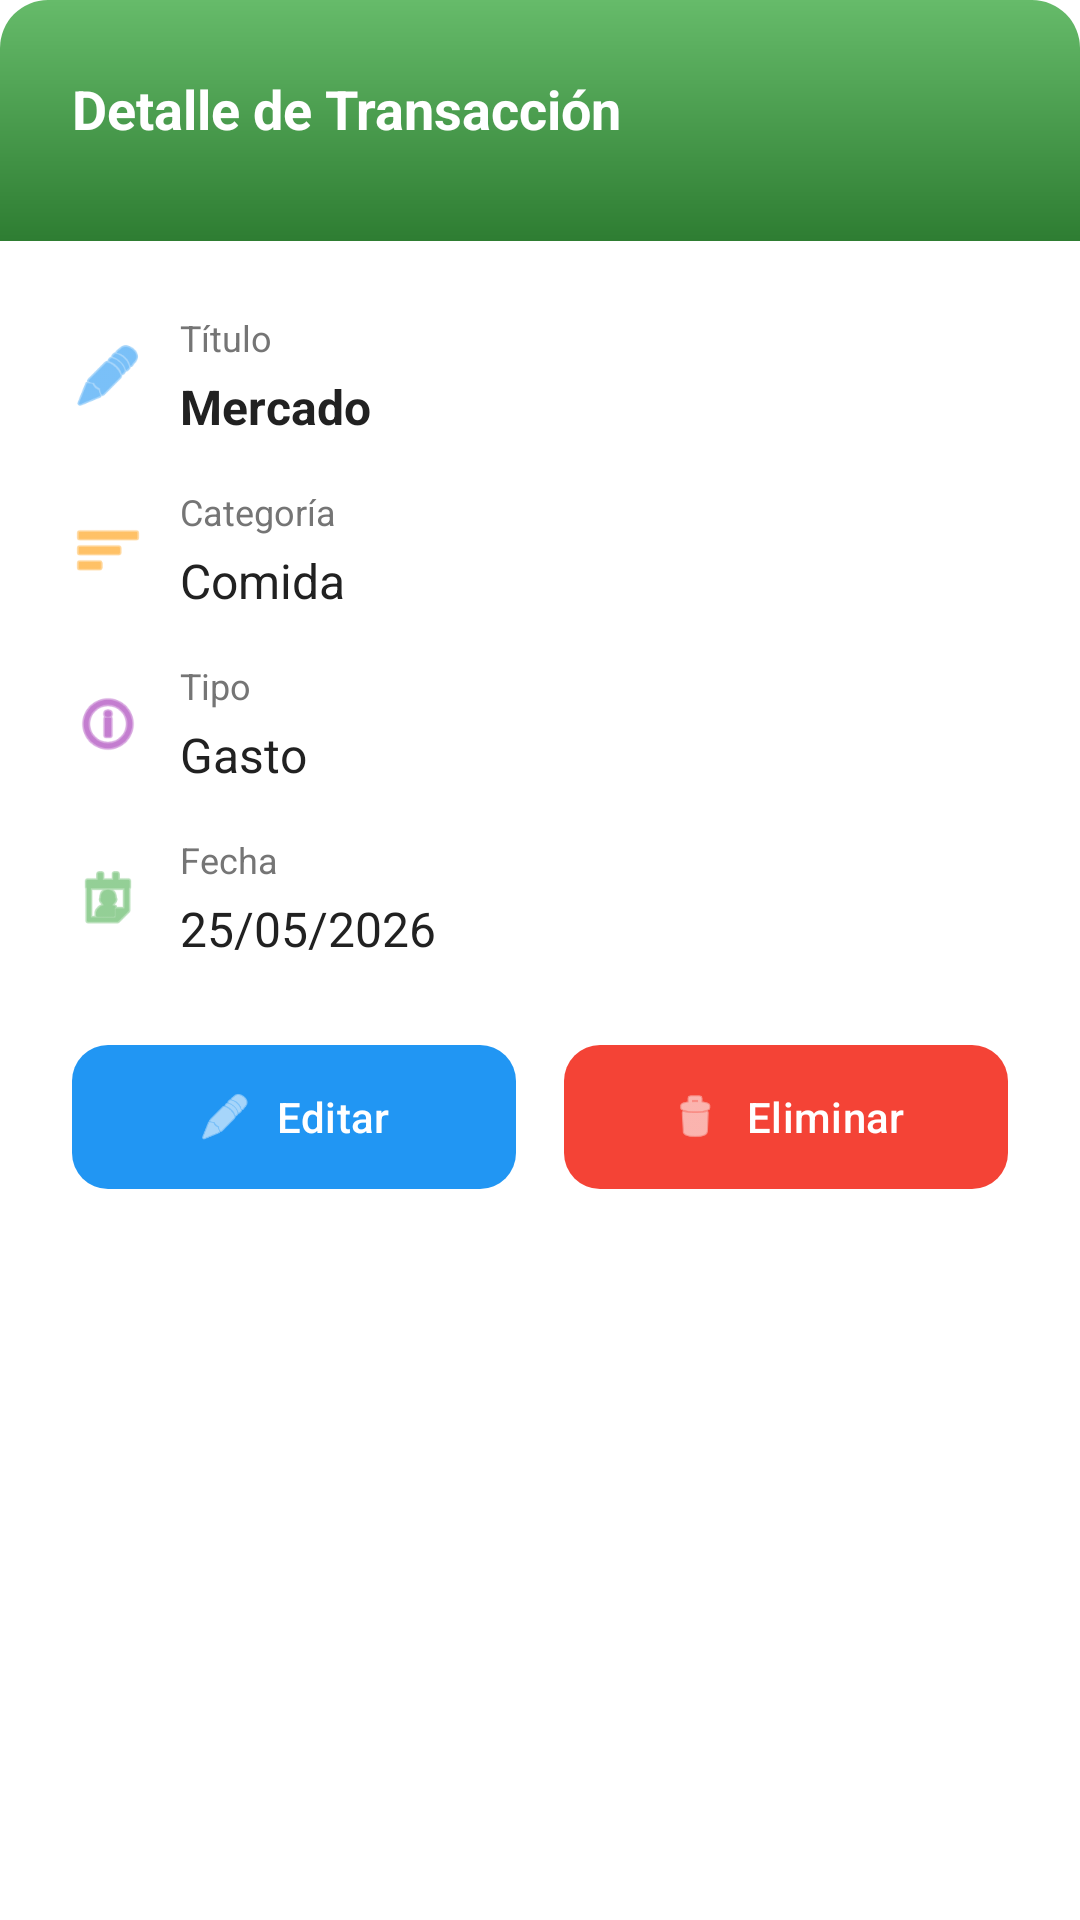

Named icons in this screenshot (1080px x 1920px) and their bounding boxes, box(x1, y1, x2, y2):
calendar: box(85, 871, 131, 924)
edit: box(77, 345, 138, 406)
info details: box(82, 698, 134, 750)
sort by size: box(77, 530, 139, 571)
